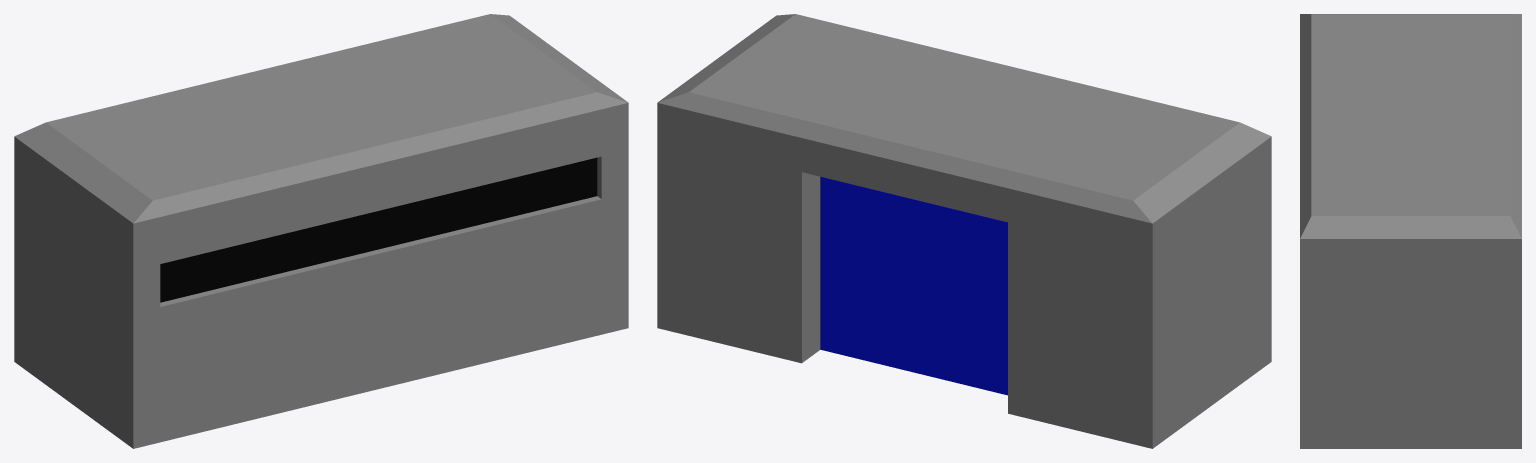
Rendered from DefenseBunker.fbx.
3 renders of one model, left to right at view 1: azimuth 30°, elevation 25°; view 2: azimuth 150°, elevation 25°; view 3: azimuth 270°, elevation 25°, orthographic. The views are drawn at different scales.
Visible parts, largest first — view 1: DefenseBunker; view 2: DefenseBunker; view 3: DefenseBunker.
Part boxes in pixels (x1,y1,x2,y2): DefenseBunker: [14, 14, 628, 448]; DefenseBunker: [657, 14, 1271, 448]; DefenseBunker: [1300, 14, 1521, 448].
Size of the model in its own units: 480 by 220 by 200.
